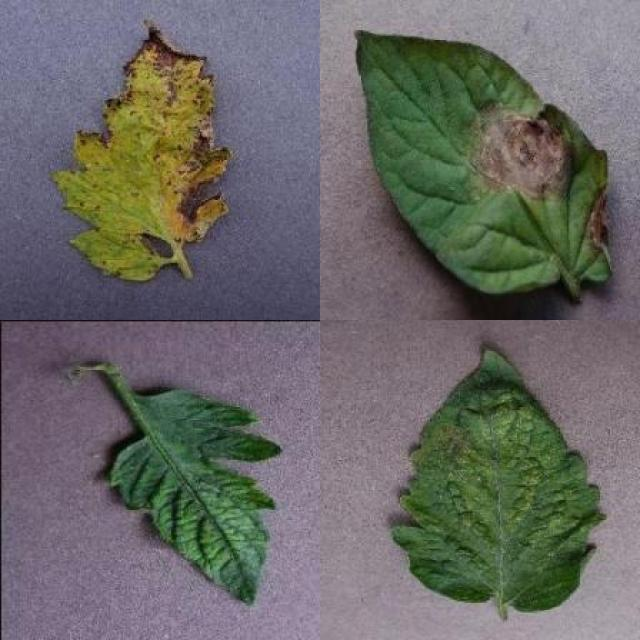Late Blight: (354, 27, 614, 294)
Mosaic Virus: (109, 387, 284, 607)
Septoria: (53, 18, 231, 282)
Spider Mites: (390, 347, 607, 617)
